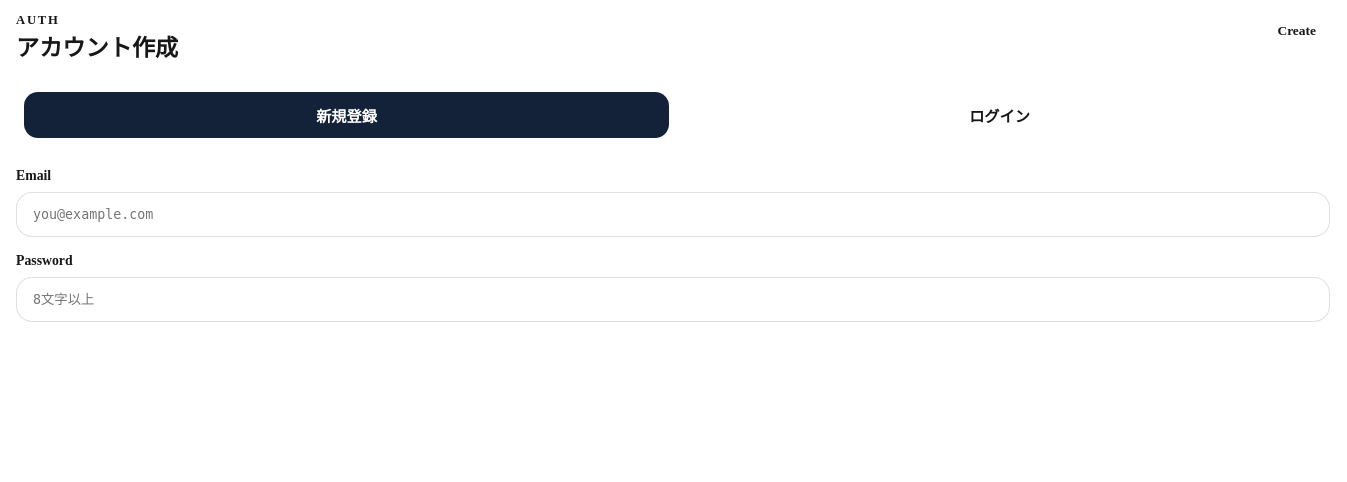
Test: AuthForm › shows server error on failed login
The width and height of the screenshot is (1347, 482).
Submit the form, box [16,168,1330,384]
In the field labelled "Email": (673, 214) [16,192,1330,236], type "alice@example.com"
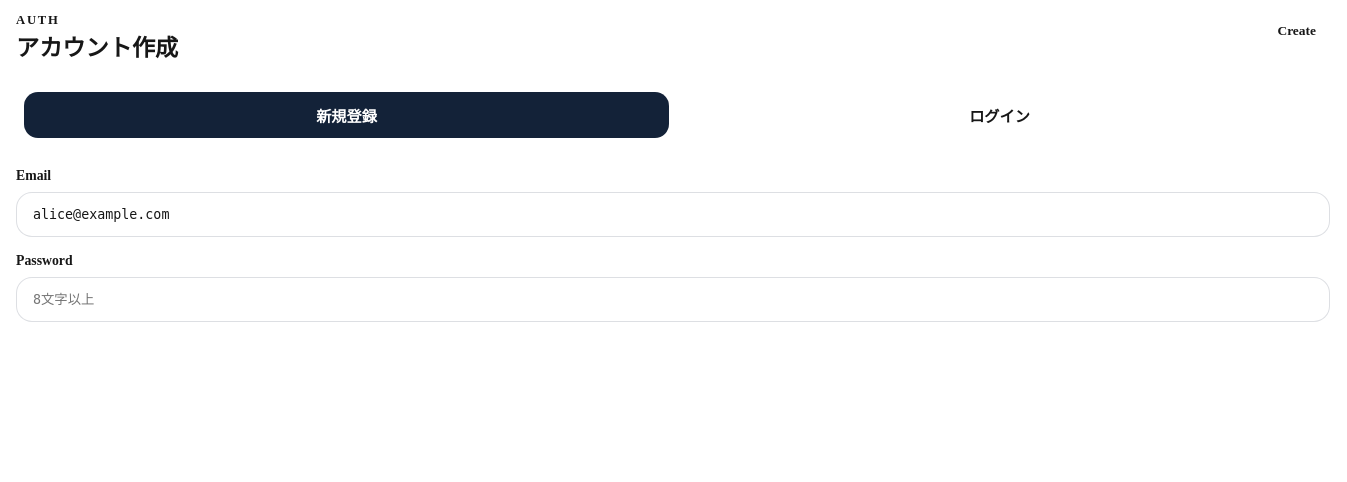
In the password field labelled "Password": (673, 299) [16,276,1330,322], type "password123"
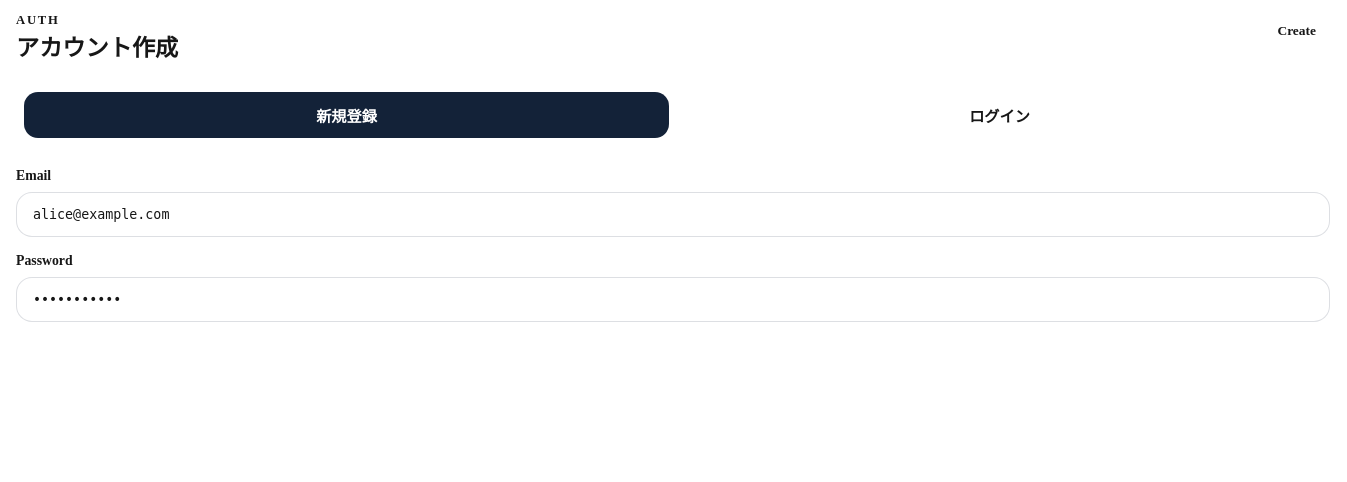
Click the button "ログイン": (1000, 114) [677,92,1322,138]
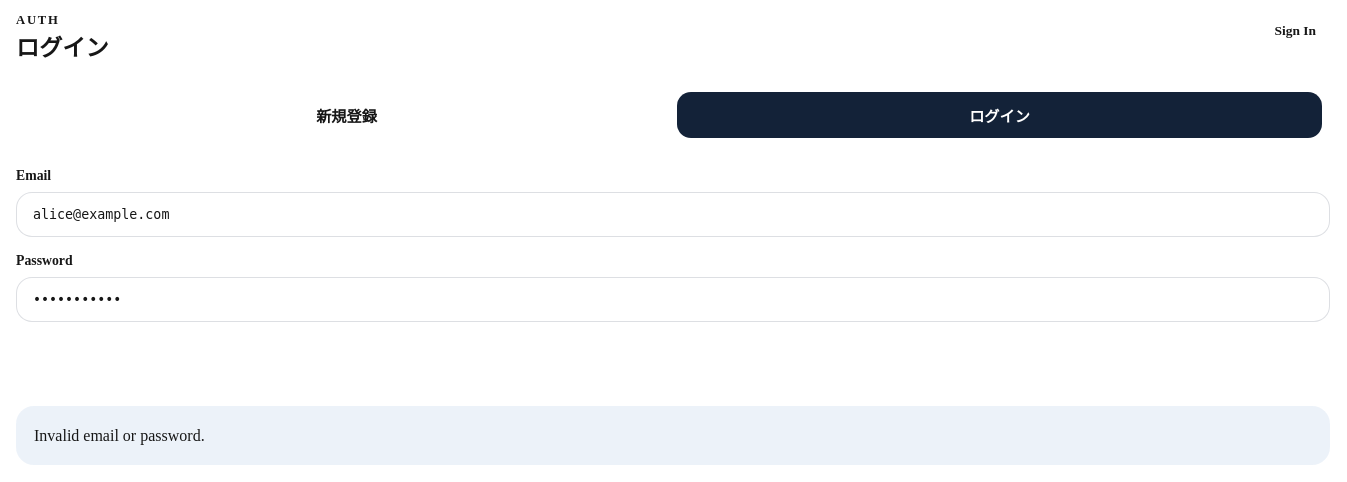
Result: the text "Invalid email or password." is shown at [16,406,1330,465]
